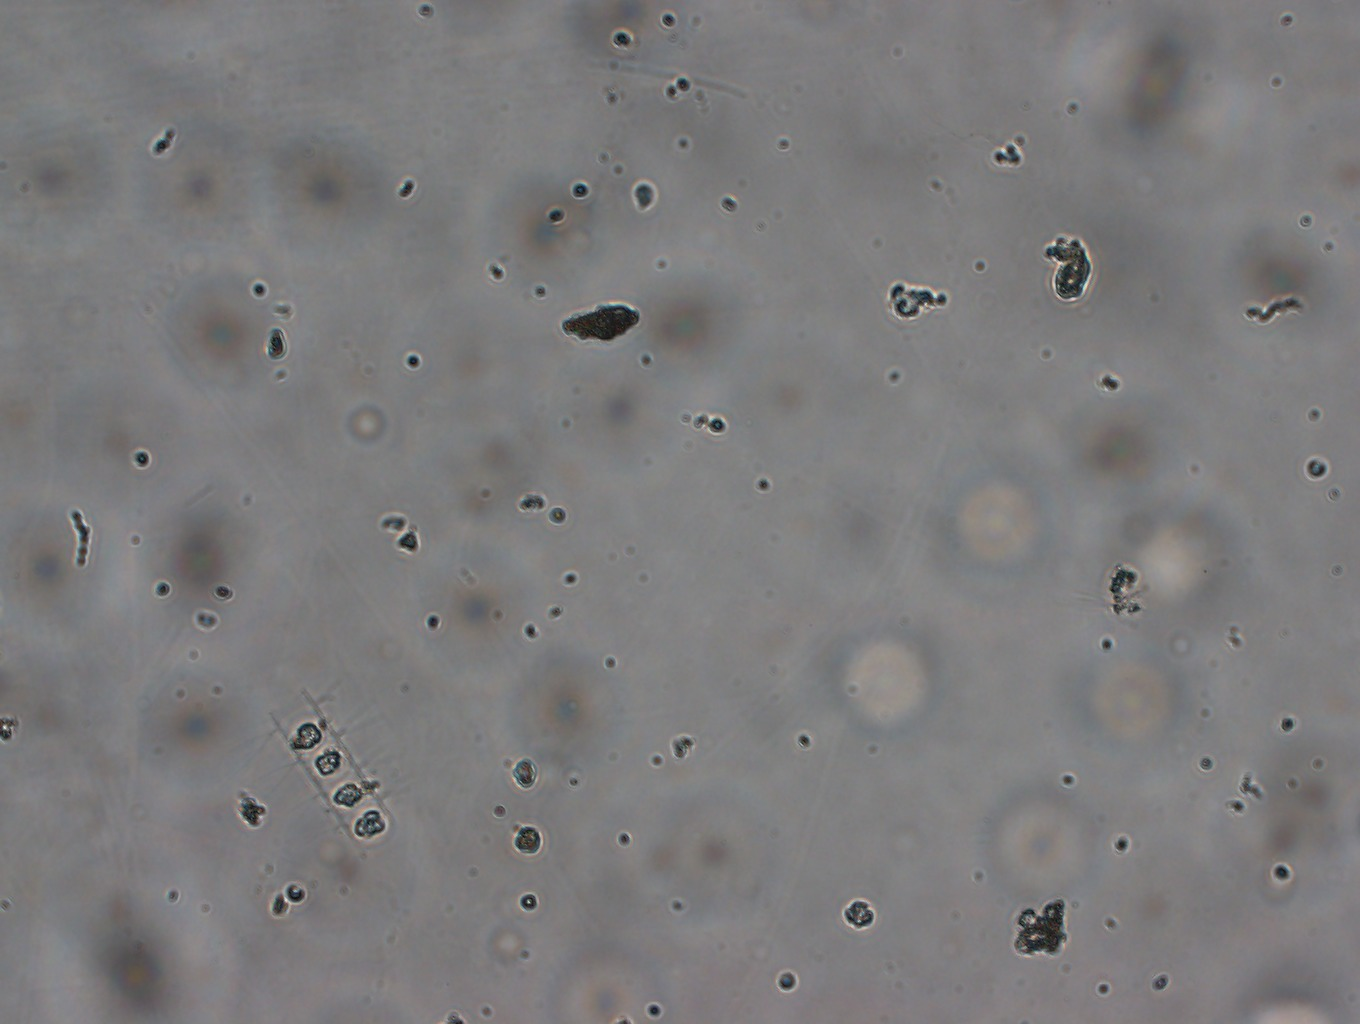chaetoceros: (253, 649, 423, 877)
